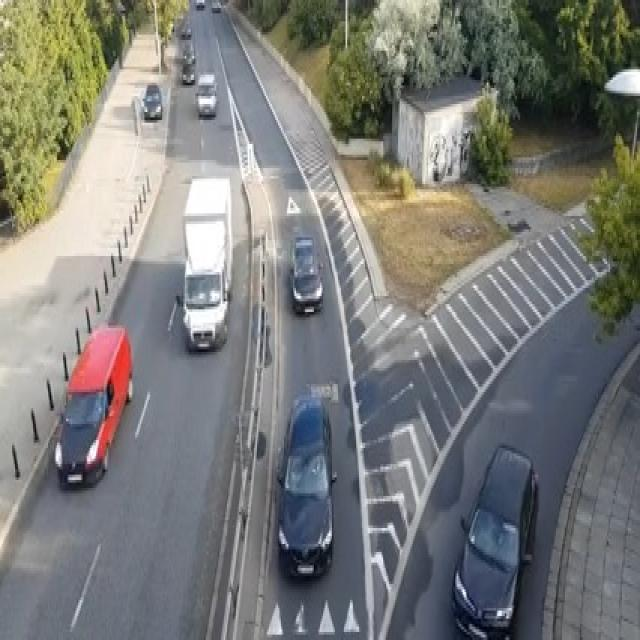bus: (54, 320, 132, 488)
car: (449, 443, 538, 637), (275, 392, 336, 579), (182, 259, 228, 349), (288, 232, 323, 315), (196, 72, 217, 115), (141, 83, 162, 120), (182, 42, 195, 82), (182, 43, 195, 64), (180, 22, 191, 38), (210, 0, 221, 11), (196, 0, 204, 8)
truck: (180, 176, 233, 349)
